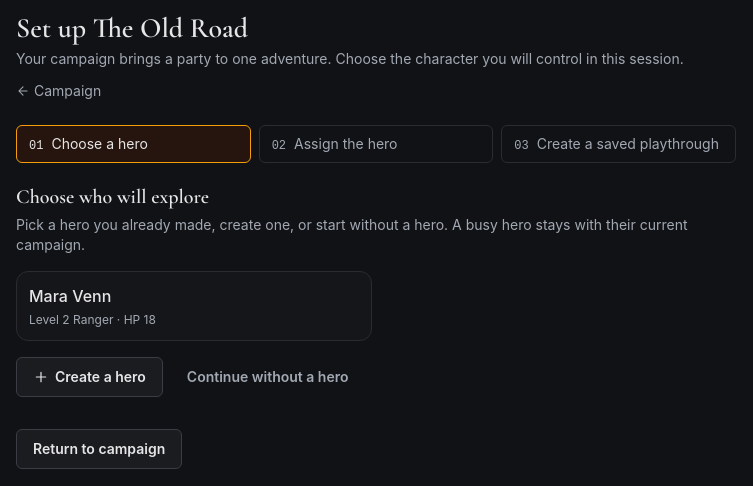
recovers a lost assignment response through the authoritative roster without assigning twice
Click the button "Mara Venn Level 2 Ranger · HP 18" at (70, 296), box [16,271,372,341]
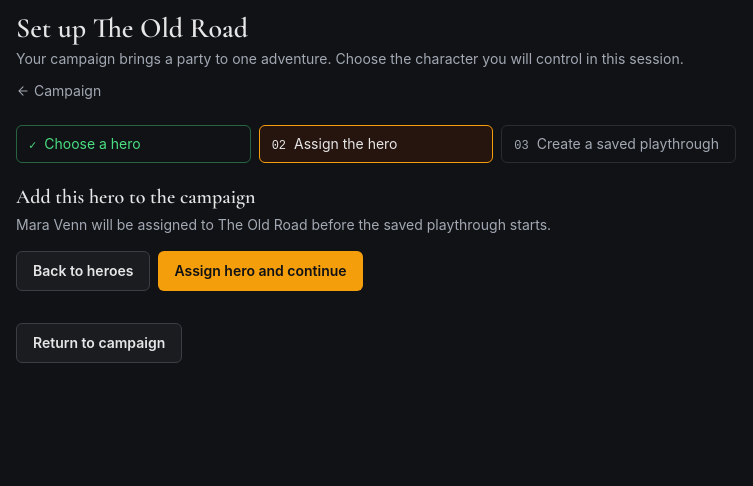
Click the button "Assign hero and continue" at (261, 271), box [158,251,363,291]
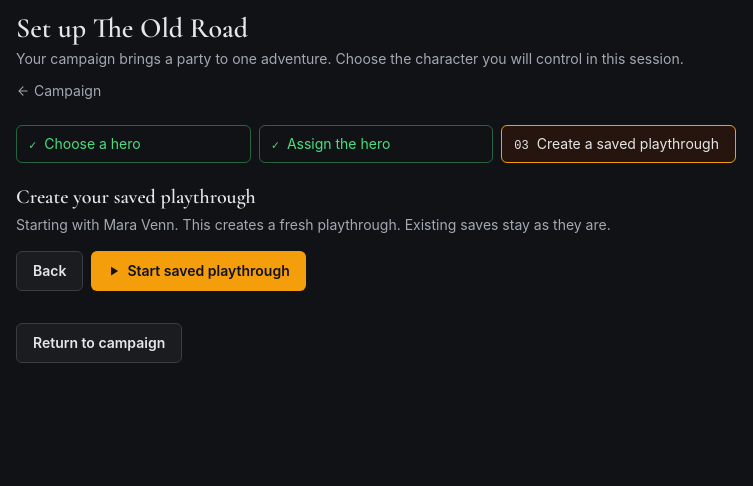
Result: the text "Create your saved playthrough" is shown at [16,185,256,209]
